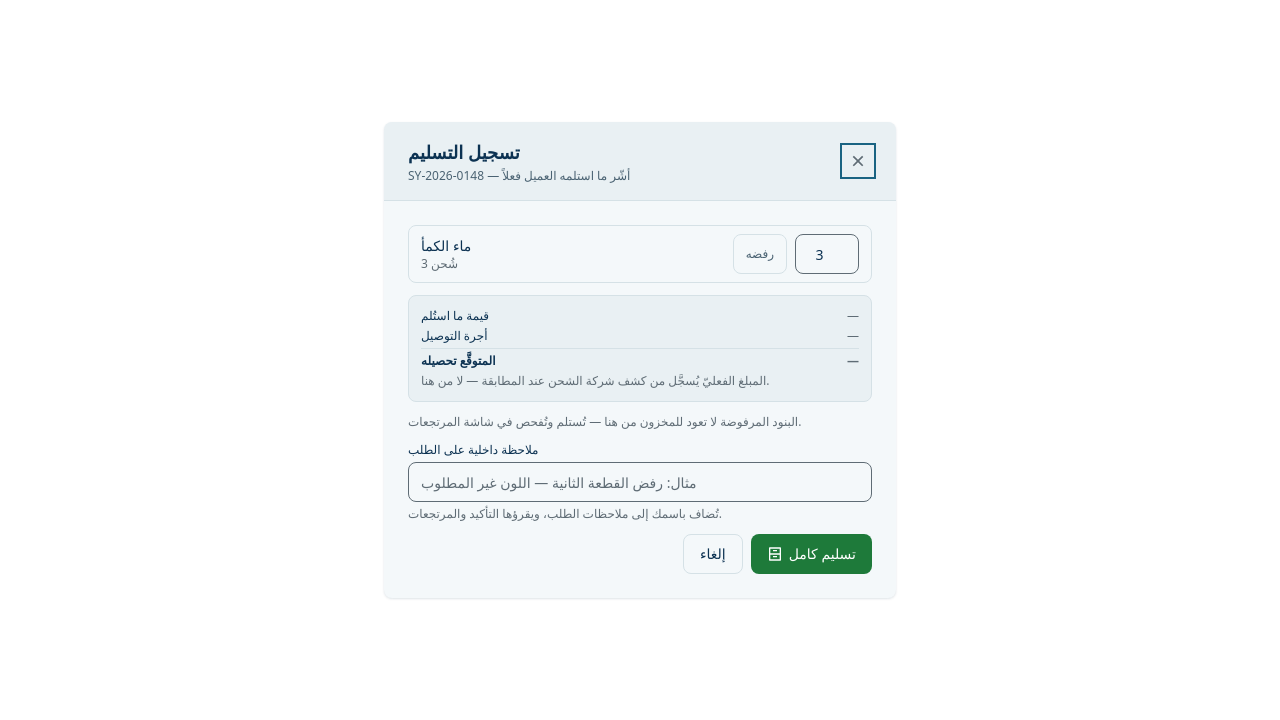
Test: the door names the second settlement it is creating › names both halves once some units are refused
Clear the number field at (827, 254), box [795,234,859,274]
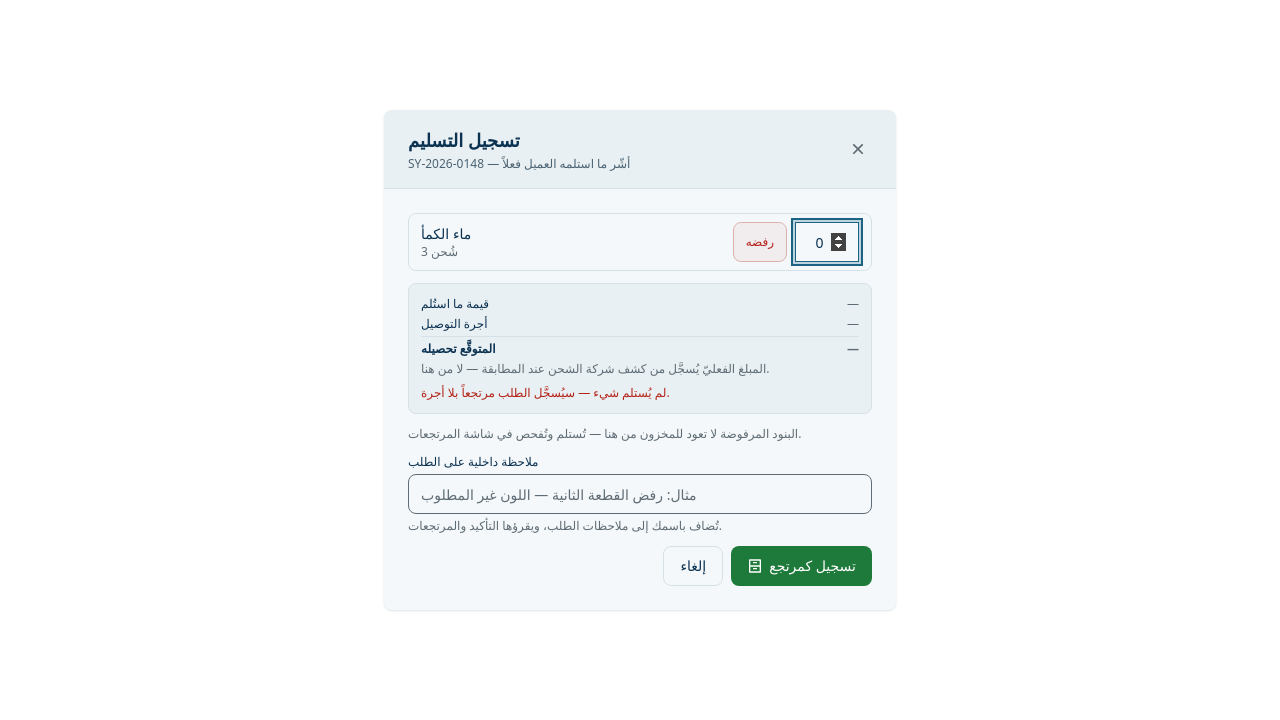
Type "2" into the number field at (827, 242), box [795,222,859,262]
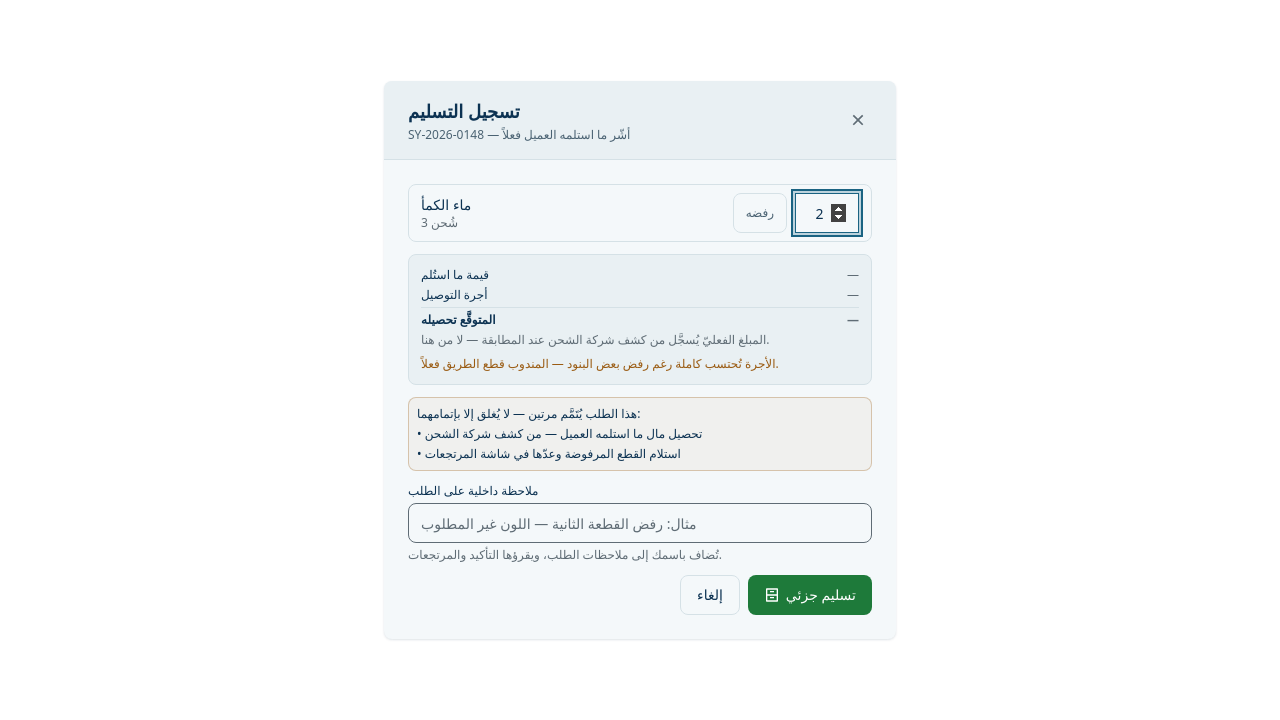
Expected: the list item "هذا الطلب يُتَمَّم مرتين — لا يُغلق إلا بإتمامهما:" is shown, [417,405,640,422]
Expected: the list item "• تحصيل مال ما استلمه العميل — من كشف شركة الشحن" is shown, [417,425,702,442]
Expected: the list item "• استلام القطع المرفوضة وعدّها في شاشة المرتجعات" is shown, [417,445,681,462]
